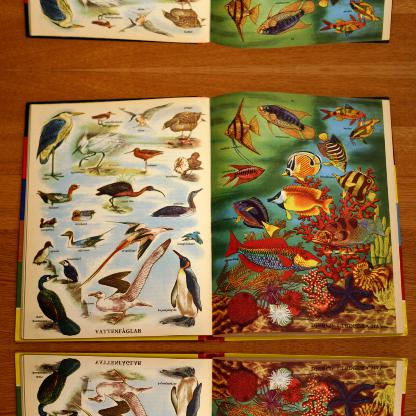Bird: (87, 234, 171, 324), (74, 220, 168, 288), (87, 368, 172, 415), (35, 108, 83, 176), (161, 249, 201, 325), (36, 272, 82, 336), (36, 356, 82, 415), (72, 126, 122, 171), (95, 180, 165, 210), (161, 367, 202, 415), (35, 0, 84, 31), (118, 100, 170, 128), (118, 10, 170, 38), (152, 188, 202, 216), (163, 109, 203, 141), (163, 0, 204, 30), (57, 227, 111, 247), (124, 144, 162, 170), (36, 182, 78, 204), (171, 152, 201, 176), (72, 0, 123, 13), (30, 239, 56, 263), (57, 258, 79, 280), (91, 107, 115, 121), (91, 17, 115, 31), (71, 208, 97, 219), (181, 230, 203, 242), (38, 214, 56, 226)
